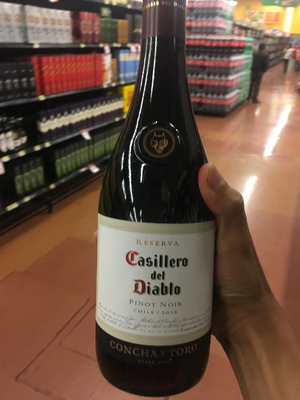casillero del diablo pinot noir: (86, 25, 225, 390)
